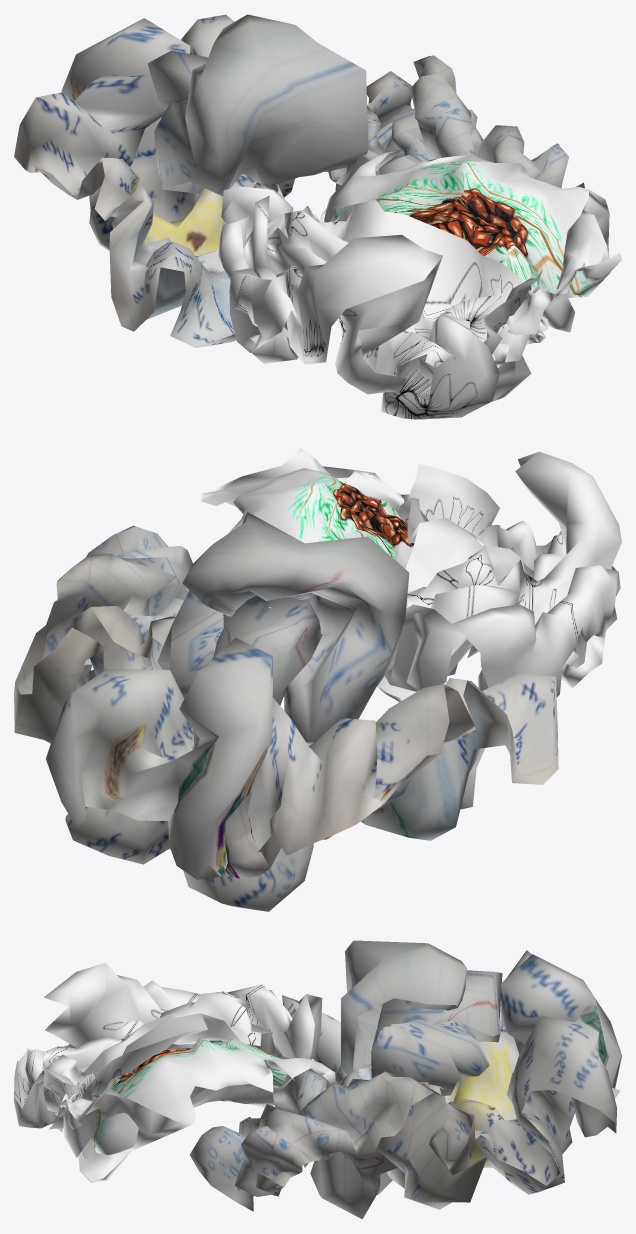
The model's file is crumbled_paper.glb.
The picture shows the model from 3 angles, top to bottom: view 1: azimuth 30°, elevation 25°; view 2: azimuth 150°, elevation 25°; view 3: azimuth 270°, elevation 25°; orthographic projection. The views are drawn at different scales.
Visible parts, largest first — view 1: Crumpled Paper 040, Crumpled Paper 030, Crumpled Paper 010, Crumpled Paper 050, Crumpled Paper 020; view 2: Crumpled Paper 030, Crumpled Paper 040, Crumpled Paper 010, Crumpled Paper 020, Crumpled Paper 050; view 3: Crumpled Paper 020, Crumpled Paper 030, Crumpled Paper 040, Crumpled Paper 010, Crumpled Paper 050.
Part boxes in pixels (x1,y1,x2,y2): Crumpled Paper 040: [218, 186, 542, 419]; Crumpled Paper 030: [14, 14, 294, 347]; Crumpled Paper 010: [147, 14, 368, 196]; Crumpled Paper 050: [319, 149, 621, 402]; Crumpled Paper 020: [328, 55, 584, 190]; Crumpled Paper 030: [46, 638, 558, 911]; Crumpled Paper 040: [385, 451, 621, 697]; Crumpled Paper 010: [157, 512, 409, 742]; Crumpled Paper 020: [14, 525, 199, 748]; Crumpled Paper 050: [201, 448, 418, 701]; Crumpled Paper 020: [190, 1068, 487, 1219]; Crumpled Paper 030: [282, 950, 621, 1194]; Crumpled Paper 040: [14, 962, 322, 1128]; Crumpled Paper 010: [341, 940, 502, 1096]; Crumpled Paper 050: [48, 1037, 338, 1182].
Bounding box in the file's own units: 0.1995 × 0.122 × 0.2852.
1 material, 1 textured.
